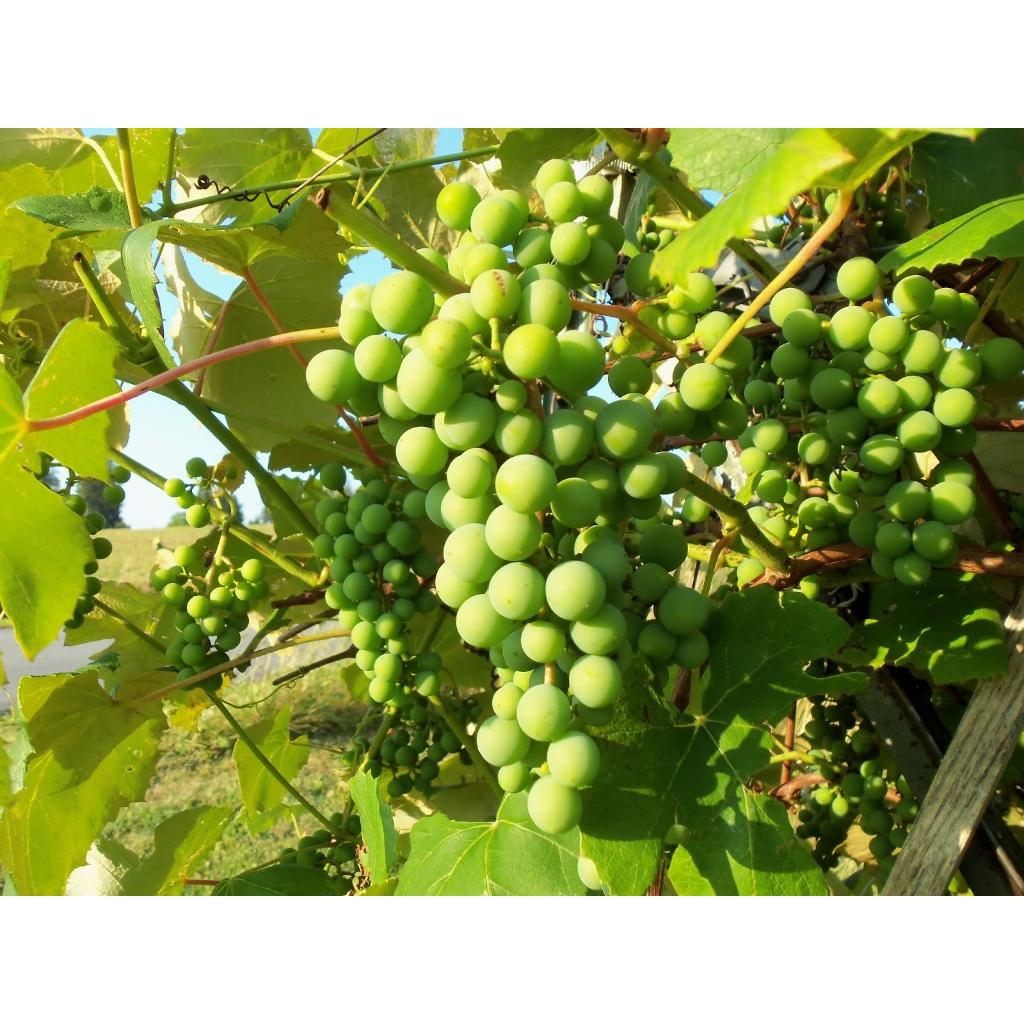grape: (386, 270, 708, 832), (314, 490, 438, 705), (150, 460, 268, 679), (856, 316, 946, 493), (848, 480, 976, 586), (830, 306, 864, 350), (946, 384, 976, 428)
